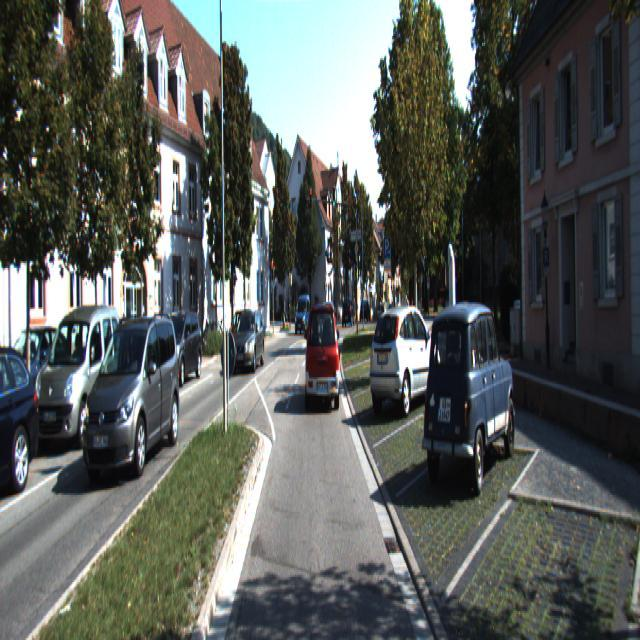Car: (420, 300, 515, 494), (368, 305, 431, 417), (221, 308, 264, 375)
